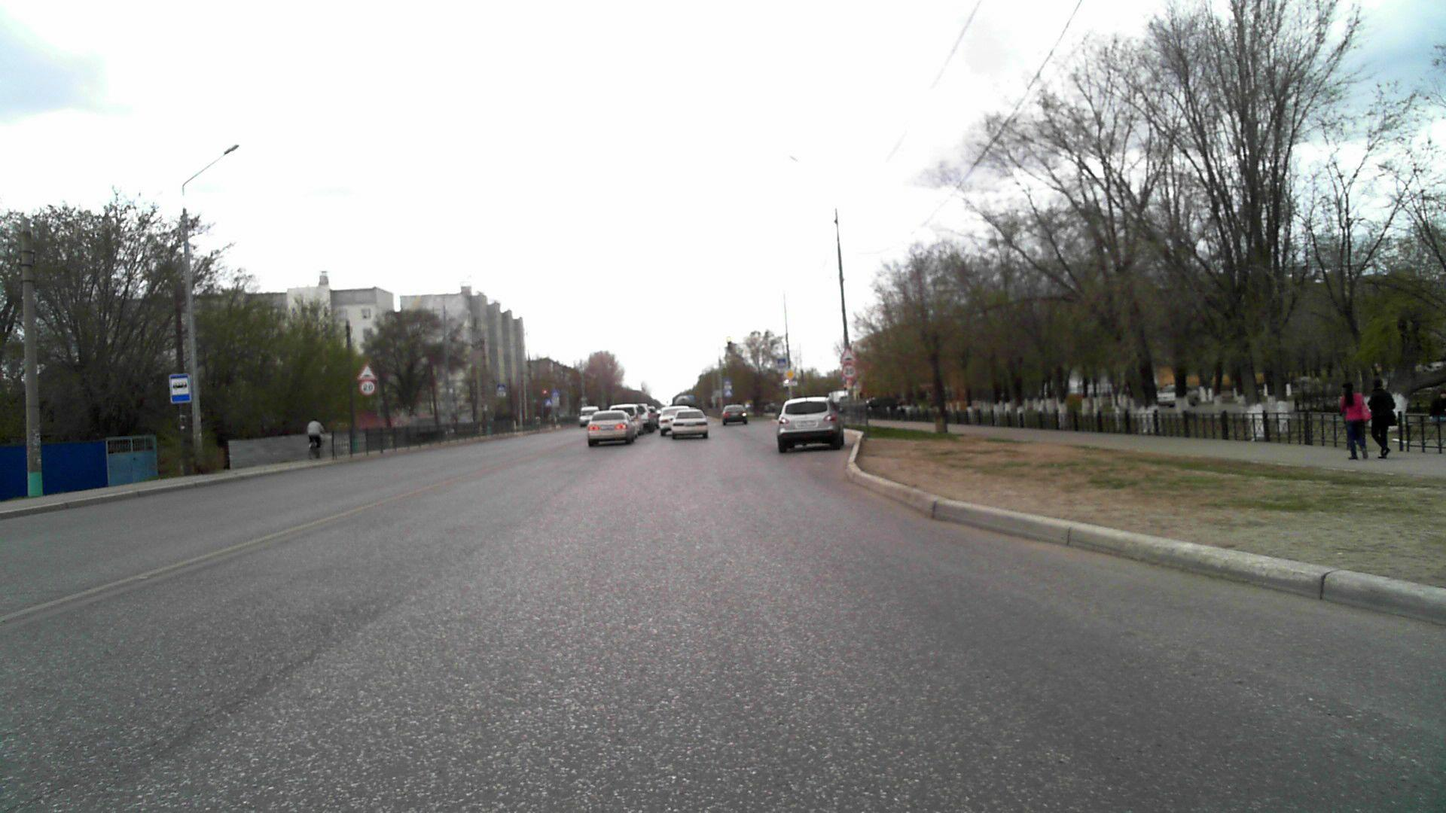road_sign: (168, 370, 193, 406), (356, 362, 378, 380), (358, 380, 377, 397)
